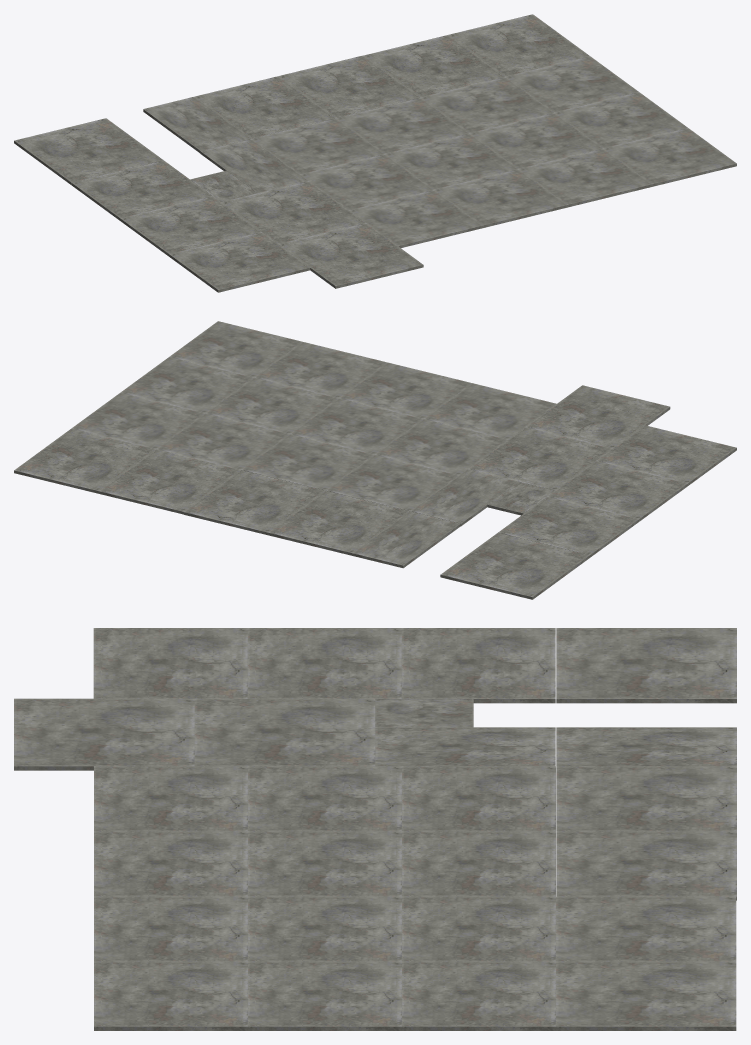
Rendered from Concrete_floor_v3.fbx.
The picture shows the model from 3 angles, top to bottom: view 1: azimuth 30°, elevation 25°; view 2: azimuth 150°, elevation 25°; view 3: azimuth 270°, elevation 25°; orthographic projection. The views are drawn at different scales.
Visible parts, largest first — view 1: Concrete_floor_v3__20_, Concrete_floor_v3__24_, Concrete_floor_v3__23_, Concrete_floor_v3__17_, Concrete_floor_v3__12_, Concrete_floor_v3__16_, Concrete_floor_v3__4_, Concrete_floor_v3__8_, Concrete_floor_v3__18_, Concrete_floor_v3__19_, Concrete_floor_v3__1_, Concrete_floor_v3__5_ (+13 smaller); view 2: Concrete_floor_v3__20_, Concrete_floor_v3__24_, Concrete_floor_v3__8_, Concrete_floor_v3__4_, Concrete_floor_v3__12_, Concrete_floor_v3__16_, Concrete_floor_v3__23_, Concrete_floor_v3__19_, Concrete_floor_v3__18_, Concrete_floor_v3__17_, Concrete_floor_v3__11_, Concrete_floor_v3__15_ (+13 smaller); view 3: Concrete_floor_v3__20_, Concrete_floor_v3__24_, Concrete_floor_v3__4_, Concrete_floor_v3__23_, Concrete_floor_v3__8_, Concrete_floor_v3__12_, Concrete_floor_v3__16_, Concrete_floor_v3__19_, Concrete_floor_v3__18_, Concrete_floor_v3__17_, Concrete_floor_v3__1_, Concrete_floor_v3__2_ (+13 smaller).
Boxes of the visible parts, x1,y1,x2,y2 form: Concrete_floor_v3__20_: (14, 118, 163, 184); Concrete_floor_v3__24_: (279, 223, 423, 288); Concrete_floor_v3__23_: (221, 181, 365, 243); Concrete_floor_v3__17_: (169, 232, 310, 292); Concrete_floor_v3__12_: (279, 55, 420, 117); Concrete_floor_v3__16_: (194, 76, 335, 138); Concrete_floor_v3__4_: (448, 14, 589, 76); Concrete_floor_v3__8_: (364, 35, 505, 97); Concrete_floor_v3__18_: (120, 196, 261, 256); Concrete_floor_v3__19_: (71, 160, 211, 220); Concrete_floor_v3__1_: (603, 128, 736, 186); Concrete_floor_v3__5_: (519, 148, 652, 207); Concrete_floor_v3__20_: (440, 533, 589, 599); Concrete_floor_v3__24_: (525, 385, 670, 448); Concrete_floor_v3__8_: (98, 449, 240, 514); Concrete_floor_v3__4_: (14, 428, 155, 493); Concrete_floor_v3__12_: (183, 470, 324, 535); Concrete_floor_v3__16_: (268, 490, 409, 555); Concrete_floor_v3__23_: (468, 427, 612, 490); Concrete_floor_v3__19_: (498, 497, 638, 557); Concrete_floor_v3__18_: (547, 461, 687, 521); Concrete_floor_v3__17_: (596, 425, 736, 485); Concrete_floor_v3__11_: (241, 434, 373, 490); Concrete_floor_v3__15_: (326, 454, 458, 511); Concrete_floor_v3__20_: (556, 628, 736, 703); Concrete_floor_v3__24_: (14, 698, 194, 770); Concrete_floor_v3__4_: (556, 961, 736, 1030); Concrete_floor_v3__23_: (194, 699, 375, 766); Concrete_floor_v3__8_: (555, 896, 736, 961); Concrete_floor_v3__12_: (556, 831, 736, 900); Concrete_floor_v3__16_: (556, 766, 736, 831); Concrete_floor_v3__19_: (401, 628, 555, 703); Concrete_floor_v3__18_: (247, 628, 401, 699); Concrete_floor_v3__17_: (93, 628, 247, 698); Concrete_floor_v3__1_: (94, 961, 247, 1030); Concrete_floor_v3__2_: (248, 961, 401, 1030).
Size of the model in its own units: 6124 by 31.53 by 4695.
